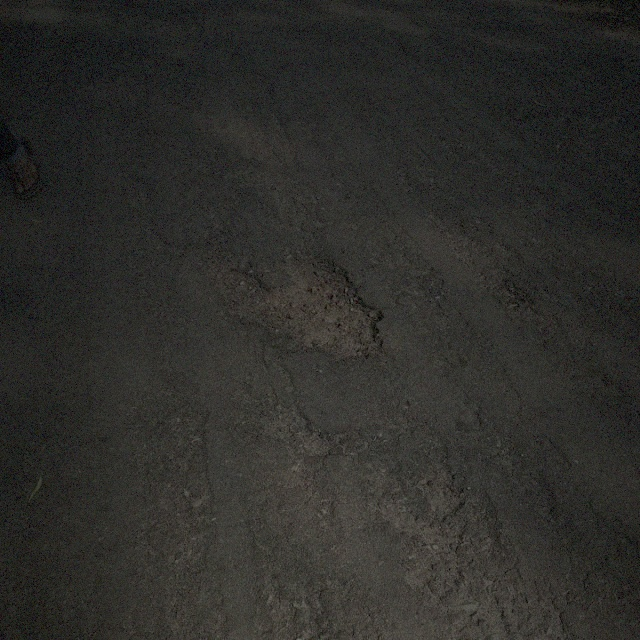pothole: (203, 248, 389, 364)
